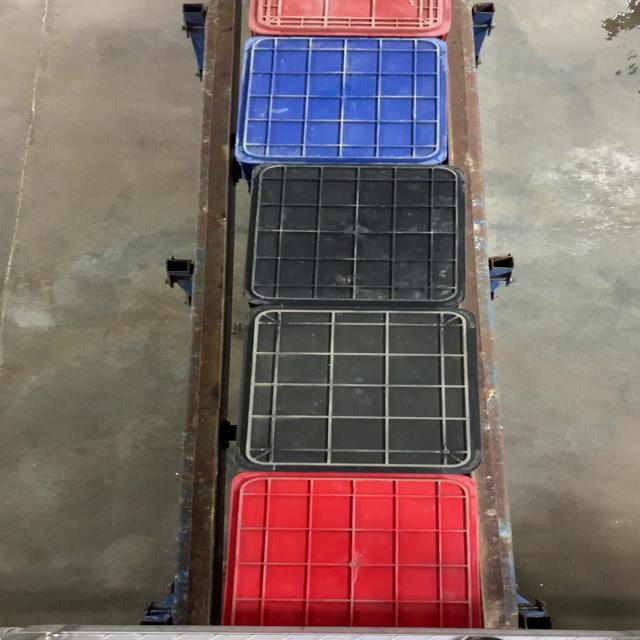Box: (233, 306, 482, 472), (240, 166, 469, 306), (231, 33, 453, 165)
